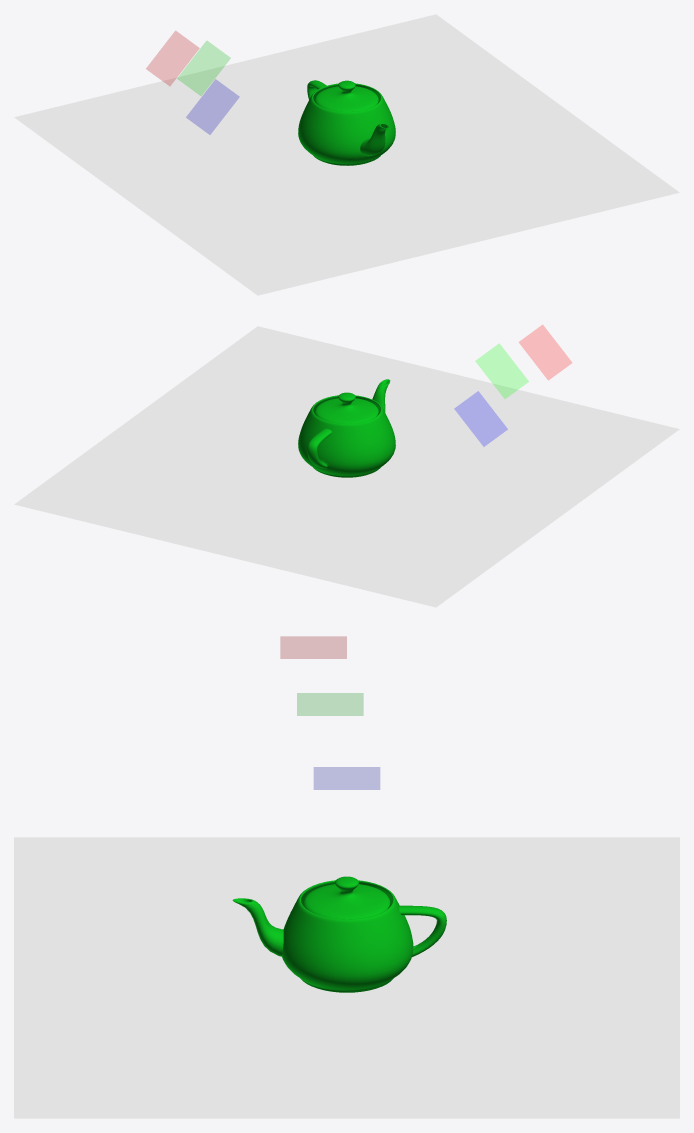
File: teapot scene.glb
The picture shows the model from 3 angles, top to bottom: view 1: azimuth 30°, elevation 25°; view 2: azimuth 150°, elevation 25°; view 3: azimuth 270°, elevation 25°; orthographic projection. The views are drawn at different scales.
Parts seen in each view (by area): view 1: plane, teapot, blue lens, green lens, red lens; view 2: plane, teapot, blue lens, green lens, red lens; view 3: plane, teapot, green lens, red lens, blue lens.
Part boxes in pixels (<box>): plane: <box>14,14,679,295</box>; teapot: <box>298,80,395,165</box>; blue lens: <box>186,79,238,134</box>; green lens: <box>177,41,230,95</box>; red lens: <box>146,31,199,85</box>; plane: <box>14,326,679,607</box>; teapot: <box>298,379,395,477</box>; blue lens: <box>454,391,507,446</box>; green lens: <box>475,344,528,398</box>; red lens: <box>519,325,571,379</box>; plane: <box>14,837,679,1118</box>; teapot: <box>232,876,446,992</box>; green lens: <box>297,693,363,715</box>; red lens: <box>280,636,346,658</box>; blue lens: <box>314,767,379,789</box>.
Bounding box in the file's own units: 20 × 7.54 × 20.
5 materials, 5 textured.
